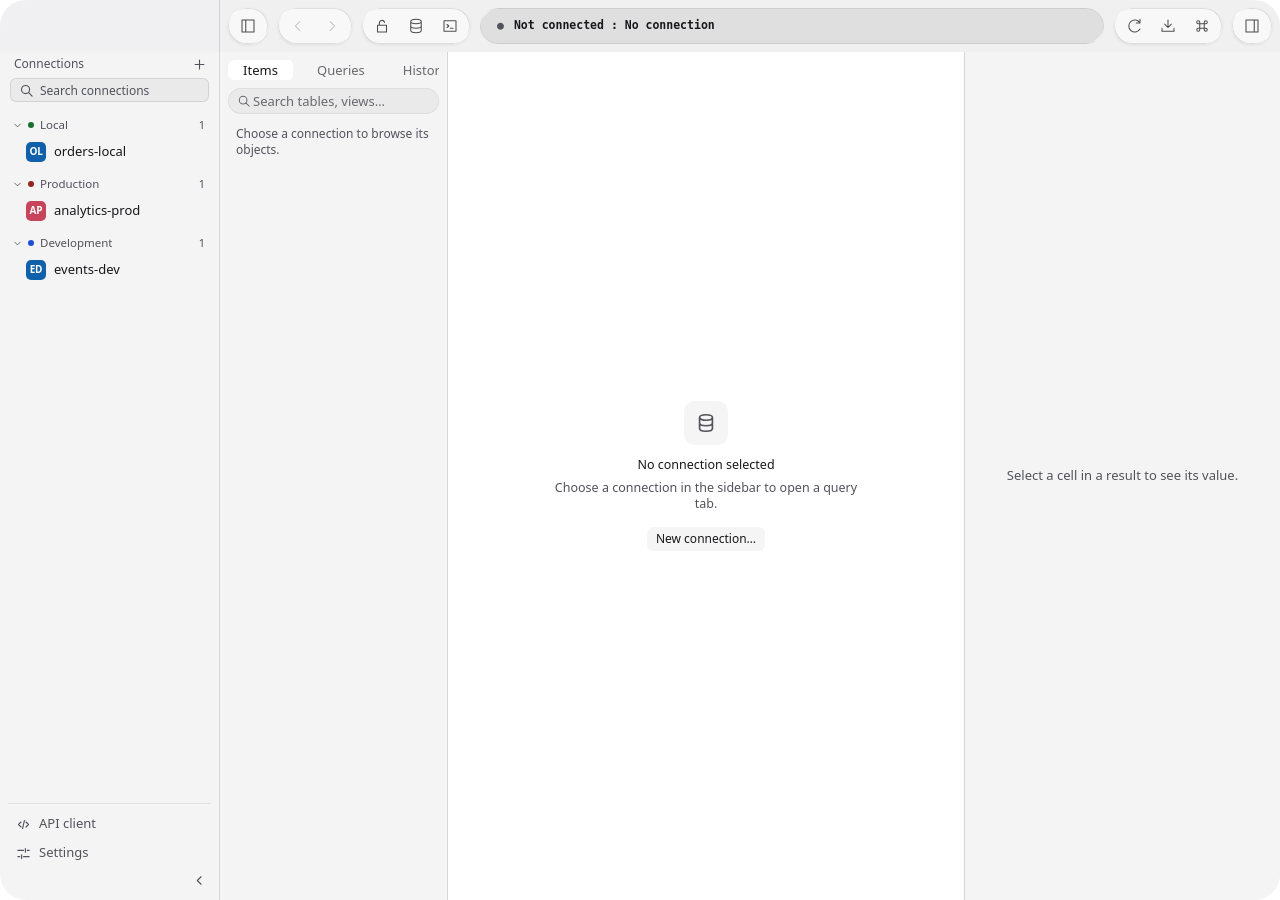
it: shows an inline error row when columns fail and retries on re-expand
The image size is (1280, 900).
Step 1. Click the button with aria-label "Switch to orders-local" → (118, 152), box [26,138,211,166]
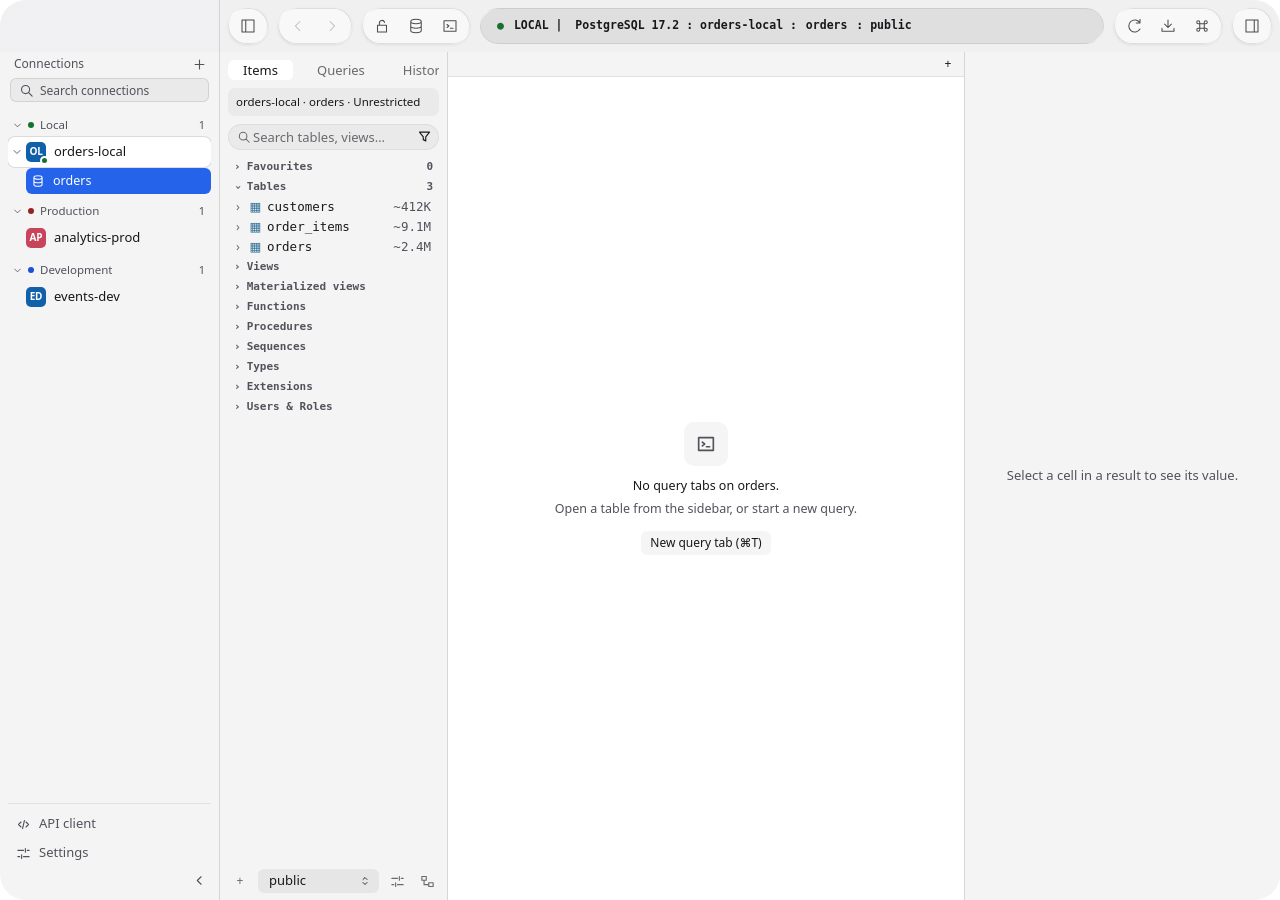
Check: the button with aria-label "Database orders" is shown, box [26,168,211,194]
Check: the button "› Tables 3" is shown, box [228,178,439,198]
Step 2. Click the text "›" in the row of "~2.4M" → (238, 247), box [236,238,240,255]
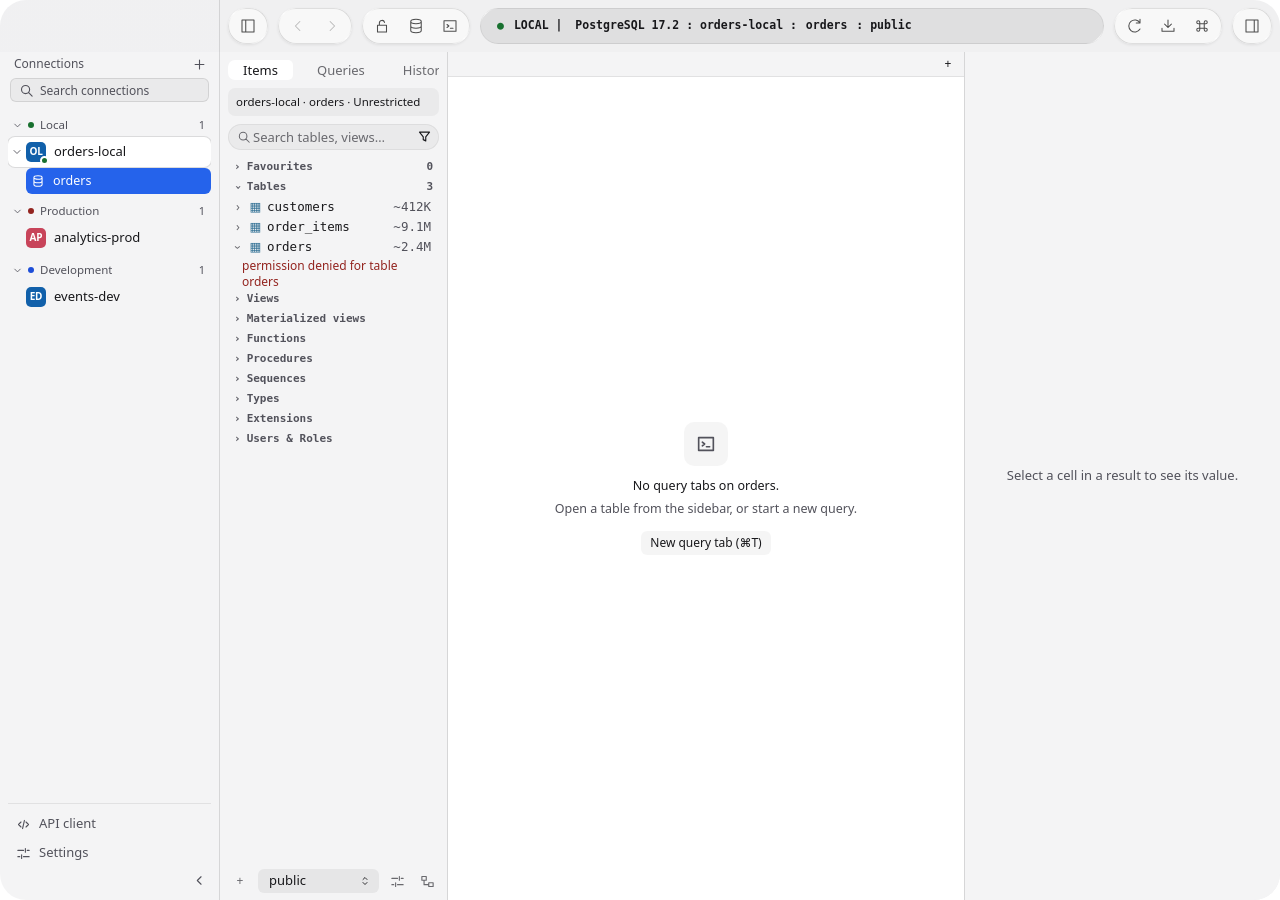
Check: the list item "permission denied for table orders" is shown, box [242,256,398,290]
Step 3. Click the text "›" in the row of "~2.4M" → (239, 248), box [230,246,247,250]
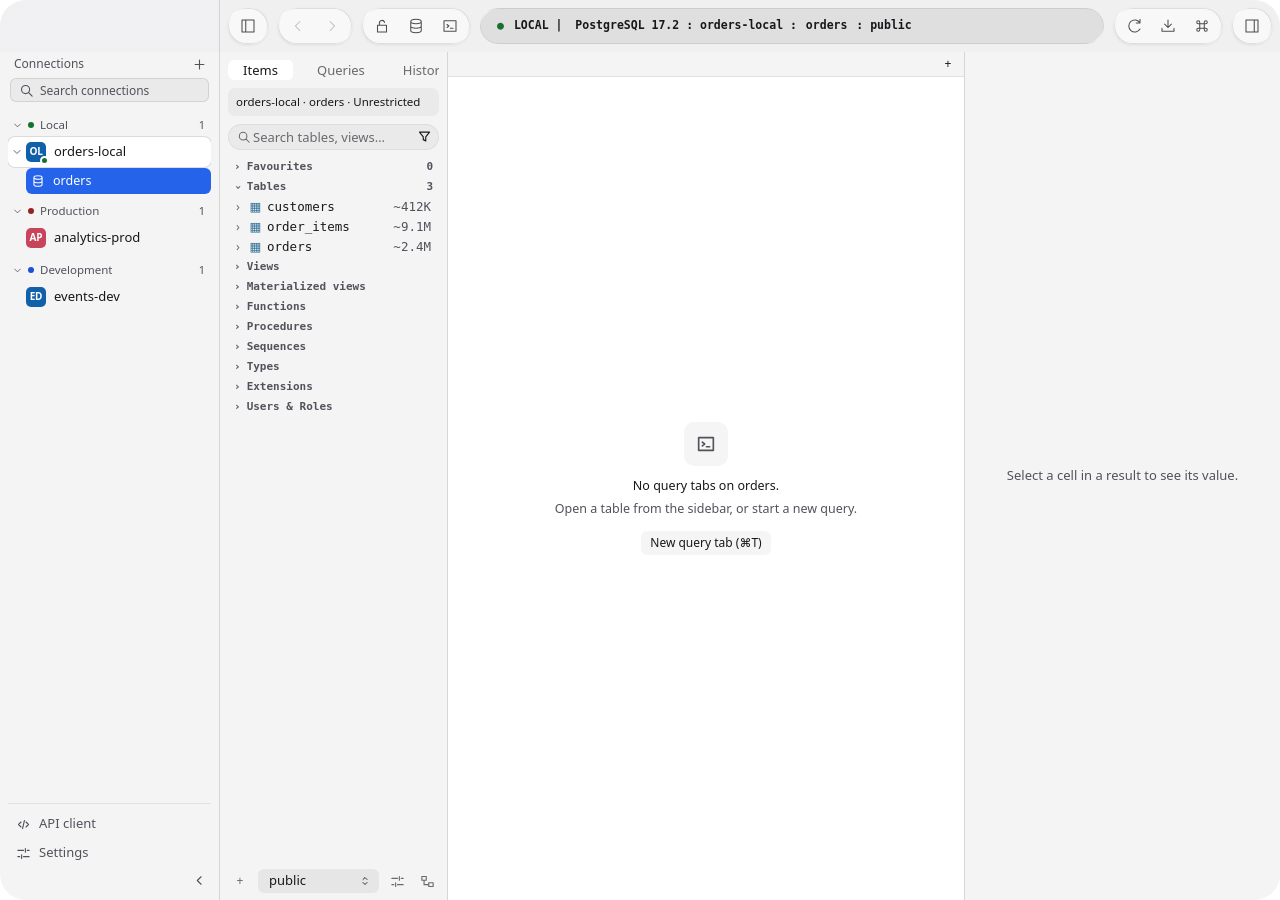
Step 4. Click the text "›" in the row of "~2.4M" → (238, 247), box [236,238,240,255]
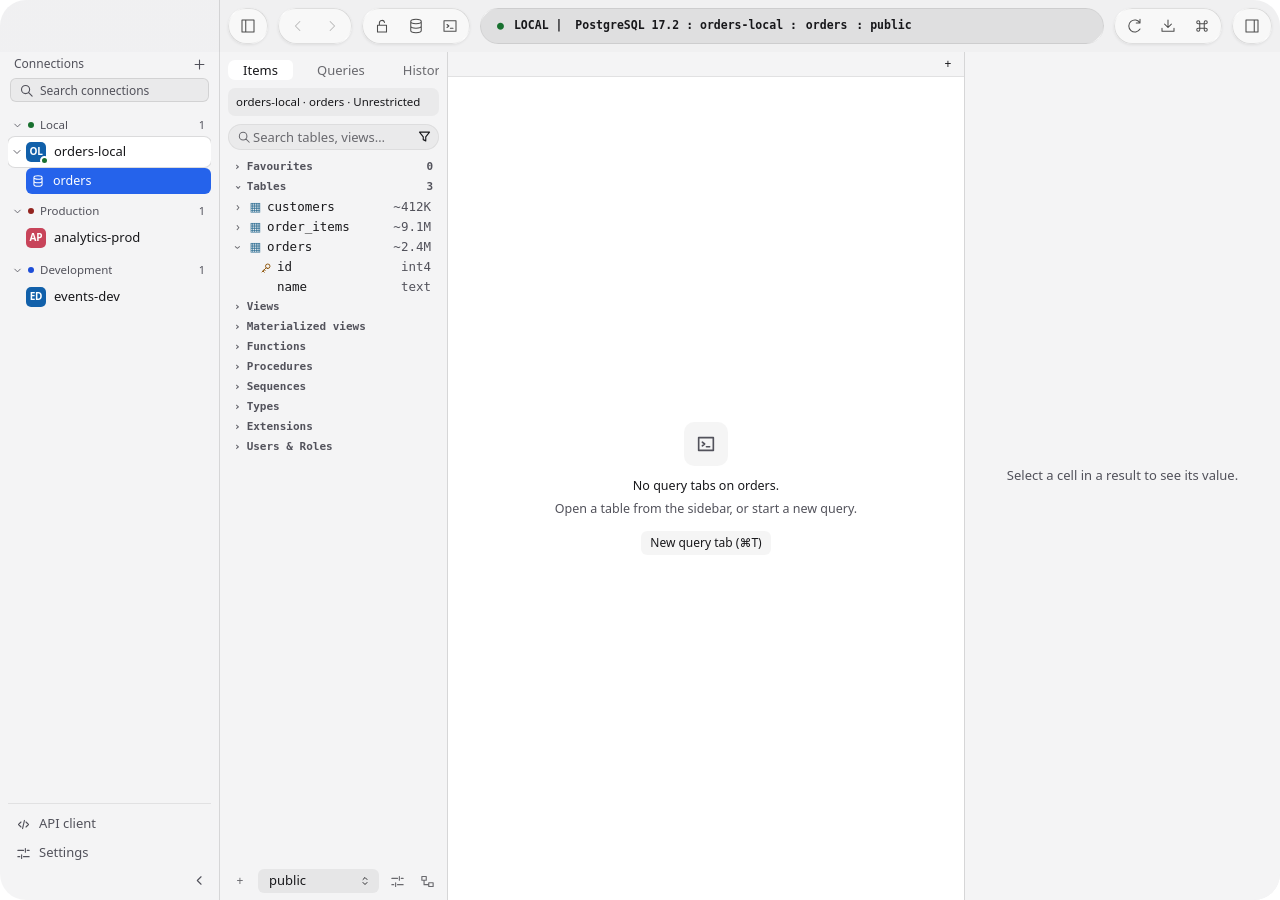
Check: the list item "name text" is shown, box [277,279,431,294]
